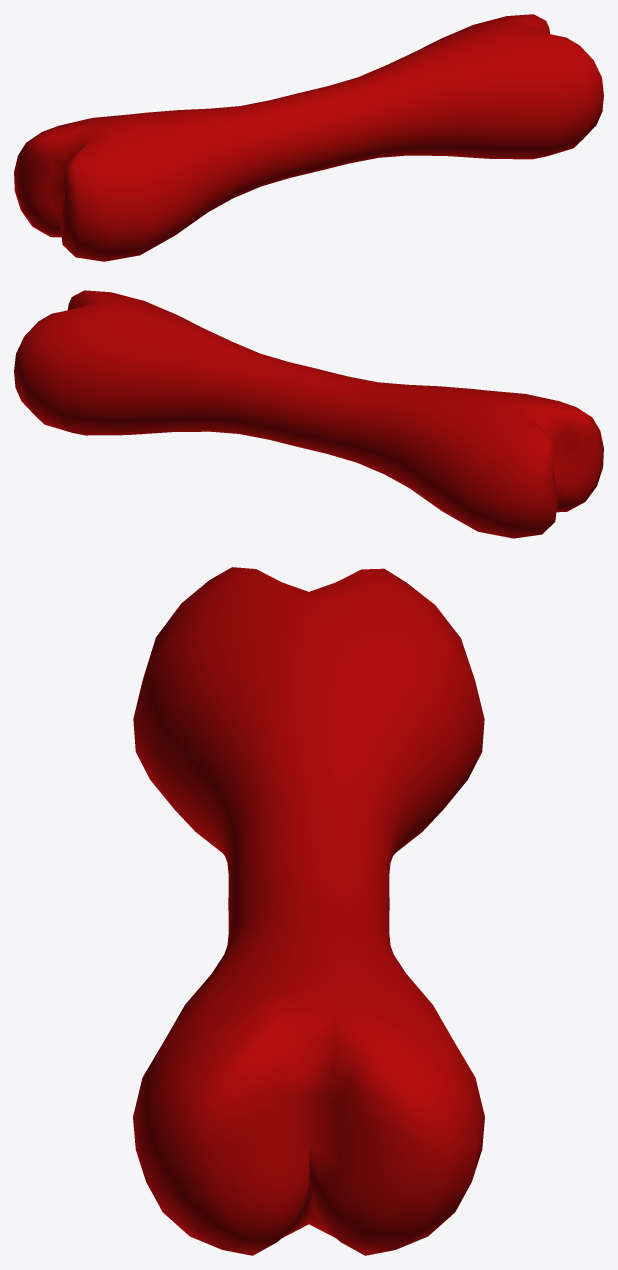
The model's file is Bloody Bone.fbx.
3 renders of one model, top to bottom at view 1: azimuth 30°, elevation 25°; view 2: azimuth 150°, elevation 25°; view 3: azimuth 270°, elevation 25°, orthographic. The views are drawn at different scales.
Visible parts, largest first — view 1: bone; view 2: bone; view 3: bone.
Part boxes in pixels (<box>): bone: <box>14,14,603,261</box>; bone: <box>14,290,603,538</box>; bone: <box>133,567,484,1255</box>.
Size of the model in its own units: 9.8 by 2.02 by 2.8.
